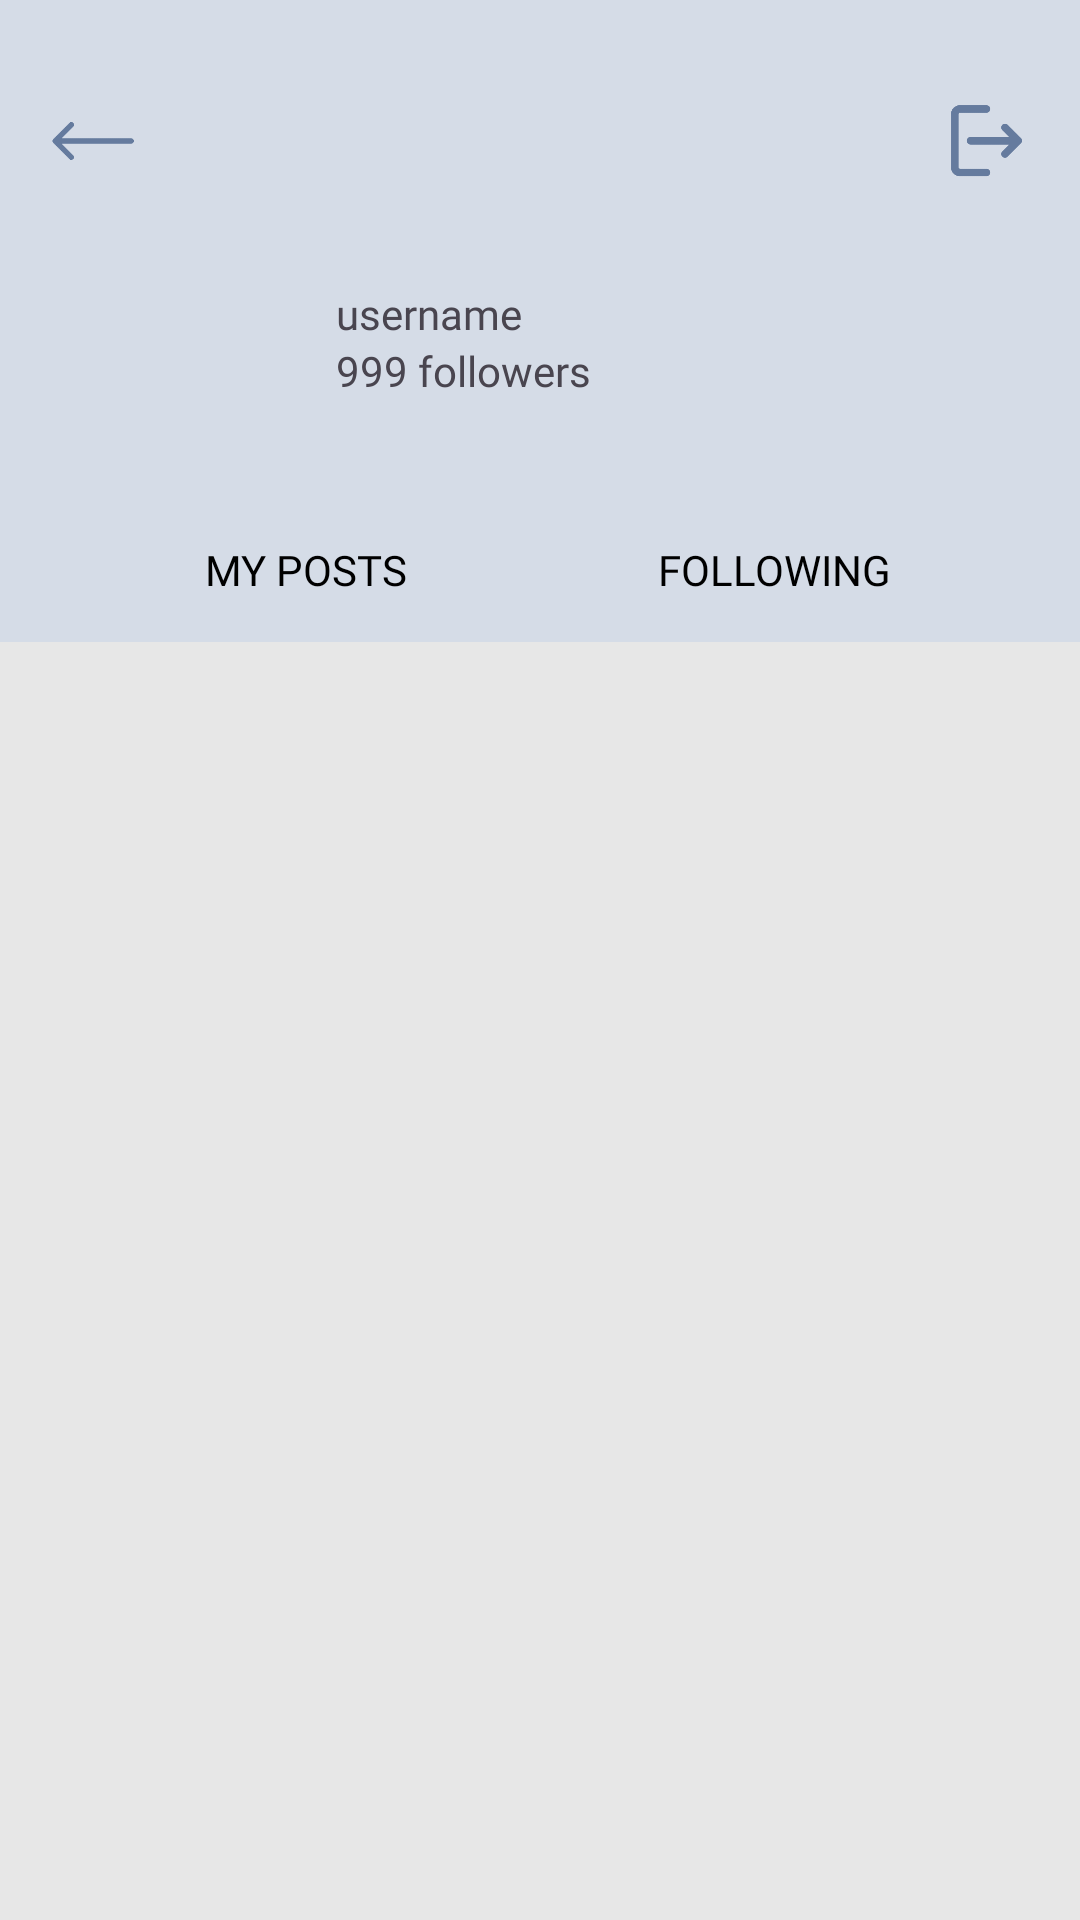

Named icons in this screenshot (1080px×1920px) and their centers, point (x, y):
back: point (93, 141)
